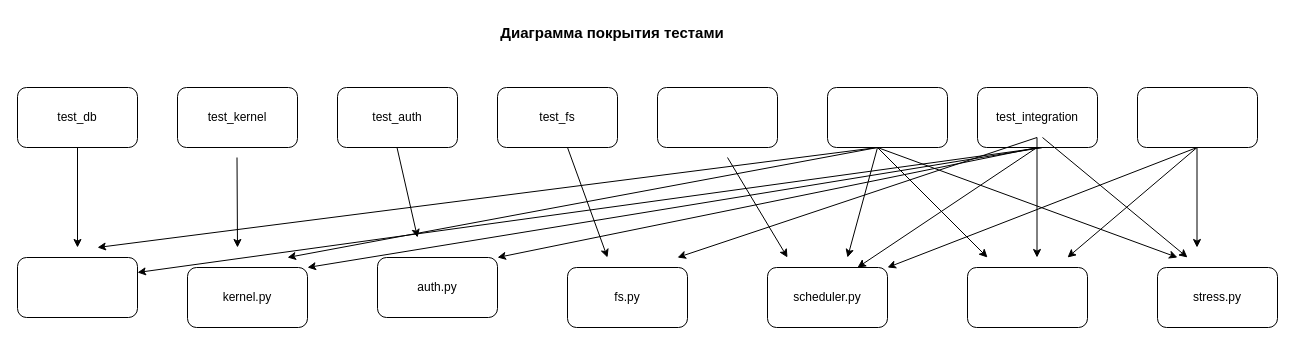
Some shapes in this 1295 by 345 pixel diagram are drawn without their labels. Each missing label, with the box of its shape:
db.py: (16, 256, 138, 318)
syscalls.py: (966, 266, 1088, 328)
test_scheduler: (656, 86, 778, 148)
test_stress: (1136, 86, 1258, 148)
test_syscalls: (826, 86, 948, 148)
